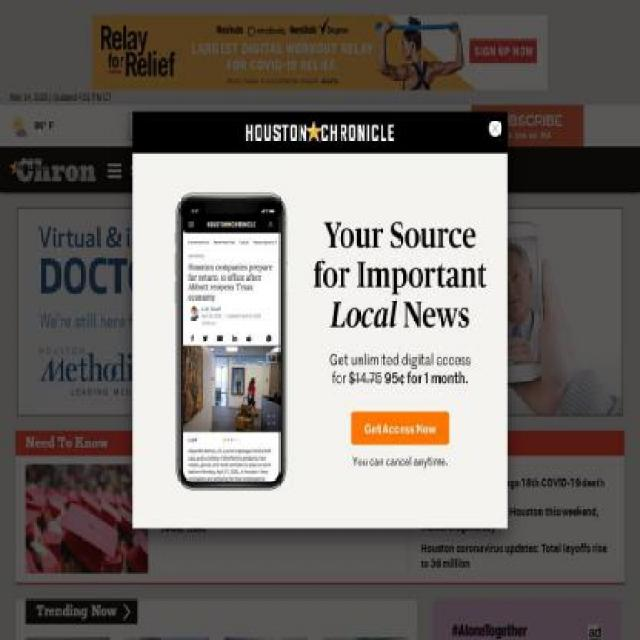button: (132, 111, 508, 528), (25, 464, 161, 573), (470, 104, 584, 148), (95, 146, 178, 192), (410, 108, 438, 144), (332, 108, 359, 144), (384, 108, 411, 144), (306, 108, 332, 144), (358, 108, 384, 144), (486, 112, 508, 140)
field: (135, 116, 250, 138), (256, 120, 267, 132)
